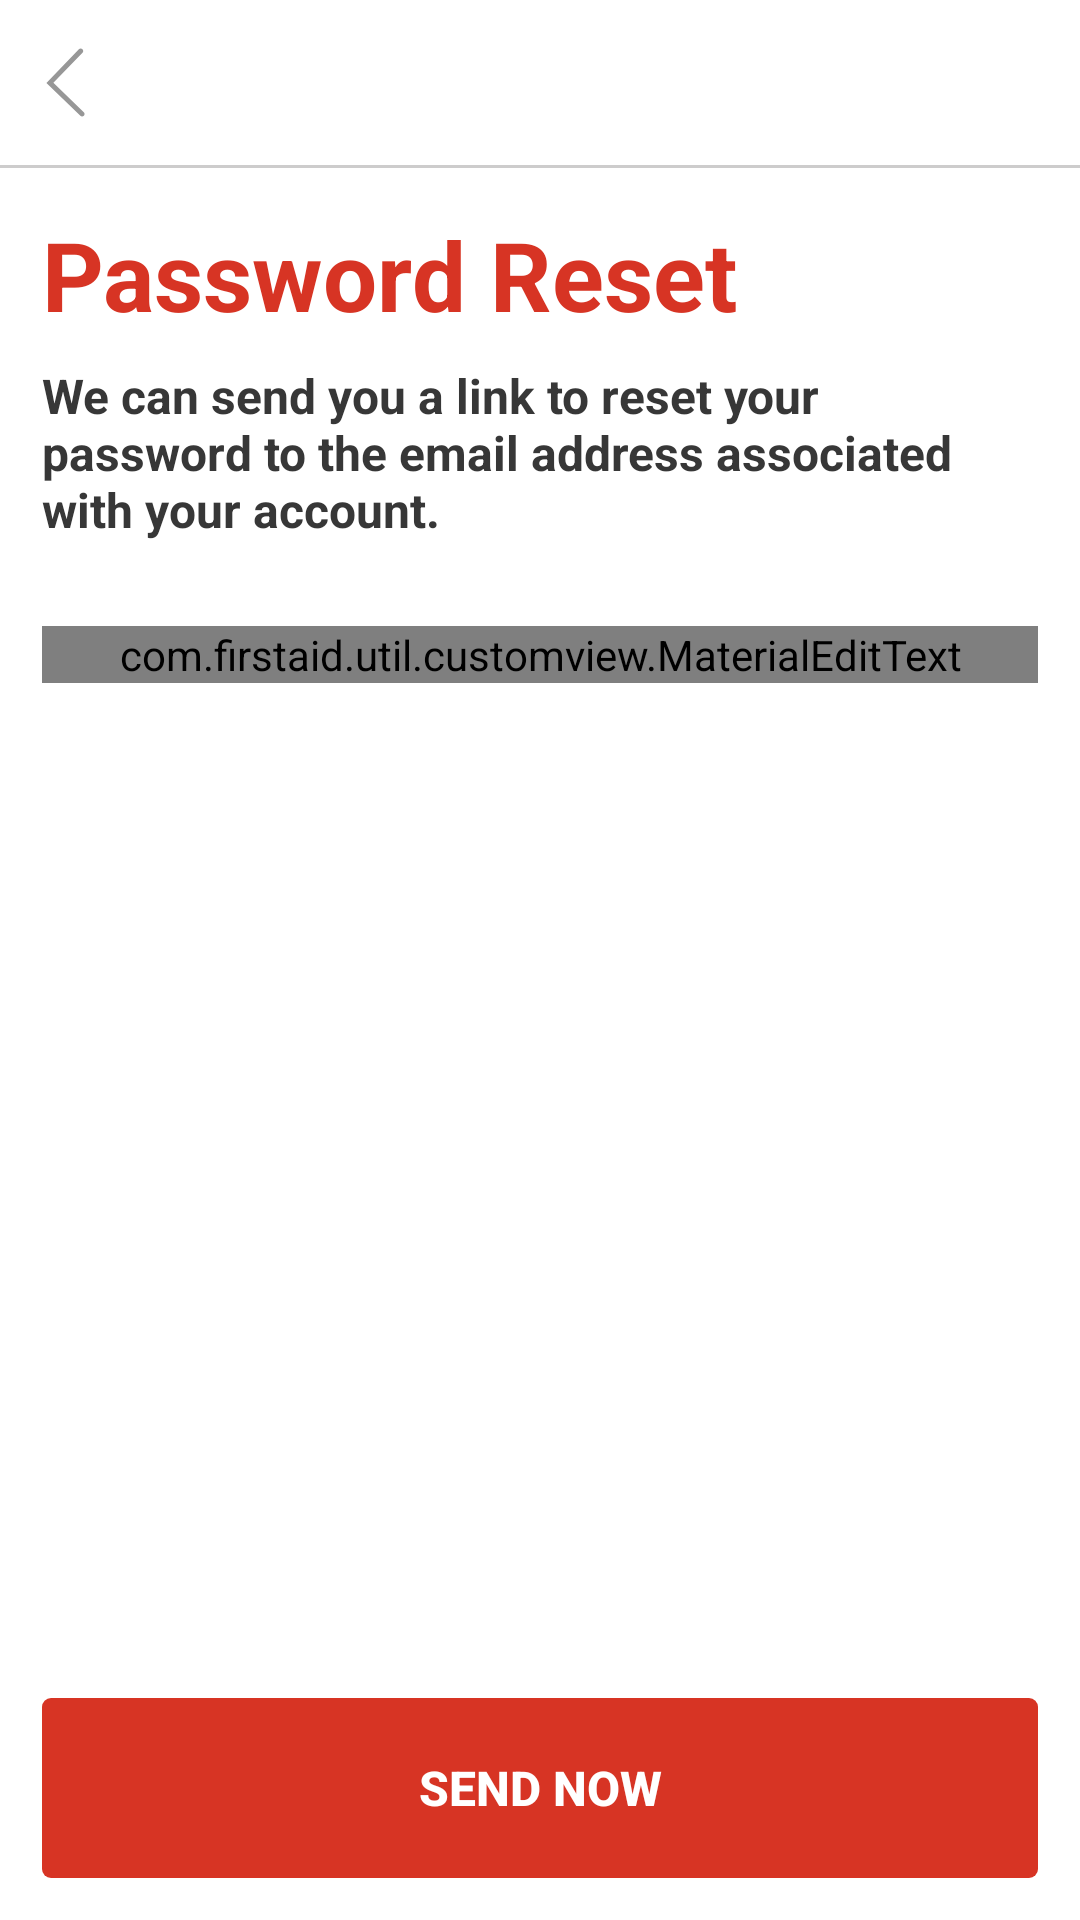

Screen size 1080px×1920px. Icon name, then its center in pixels as [x,y]:
back: [66,82]
